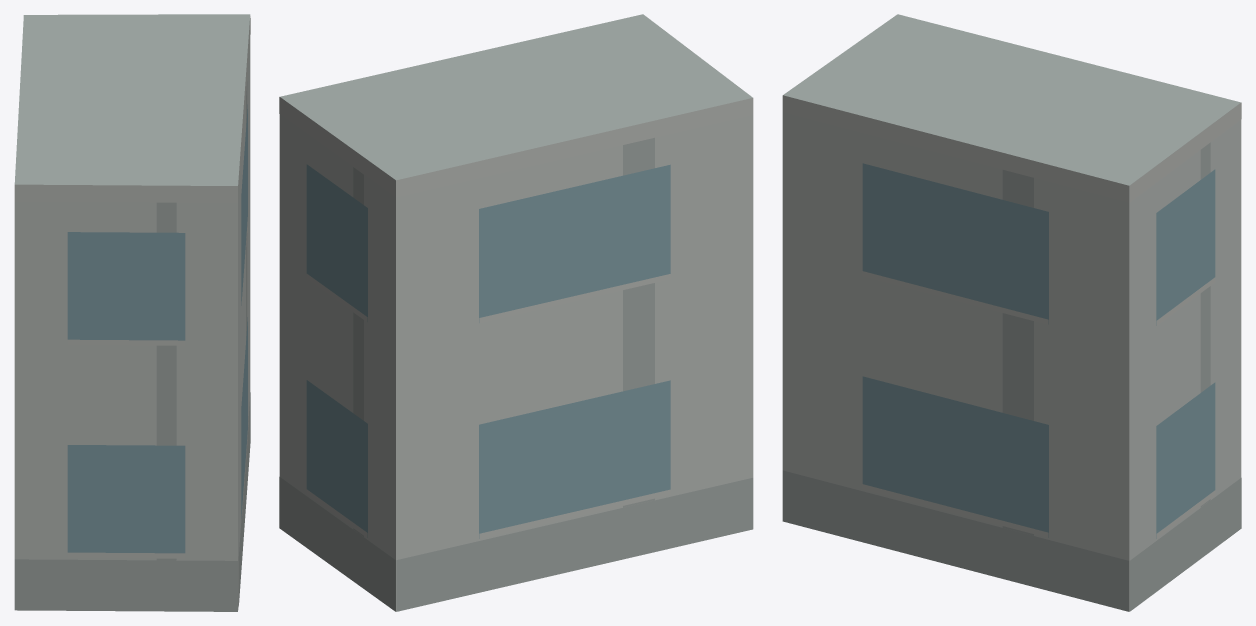
The model's file is survey-upis-32737066.glb.
3 views of the same model, side by side, from view 1: azimuth 30°, elevation 25°; view 2: azimuth 150°, elevation 25°; view 3: azimuth 270°, elevation 25° (orthographic).
Parts seen in each view (by area): view 1: survey-upis-32737066.tmp; view 2: survey-upis-32737066.tmp; view 3: survey-upis-32737066.tmp.
Part boxes in pixels (x1,y1,x2,y2): survey-upis-32737066.tmp: (14, 14, 250, 611); survey-upis-32737066.tmp: (279, 14, 753, 611); survey-upis-32737066.tmp: (782, 14, 1241, 611).
Size of the model in its own units: 5.28 by 6.1 by 5.96.
